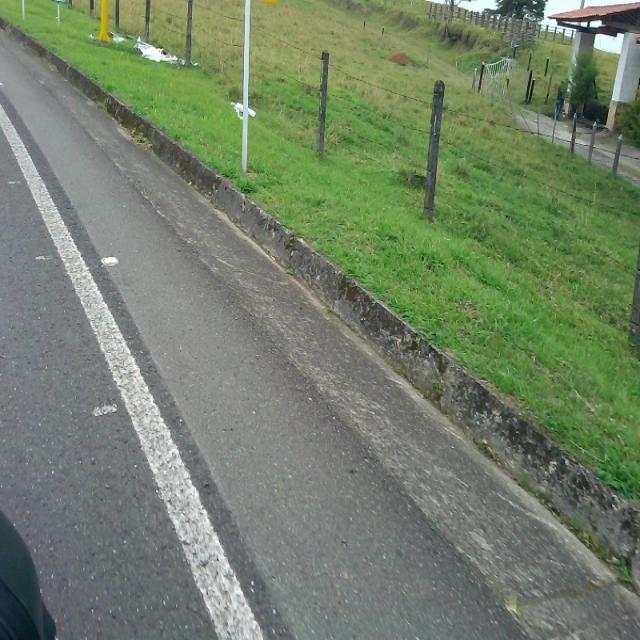DITCH: (1, 15, 638, 638), (1, 18, 638, 637)
